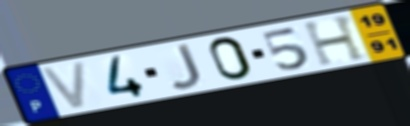0: (206, 35, 256, 82)
4: (105, 53, 148, 100)
5: (259, 24, 312, 72)
H: (299, 13, 370, 68)
J: (167, 41, 205, 92)
V: (36, 58, 89, 112)
